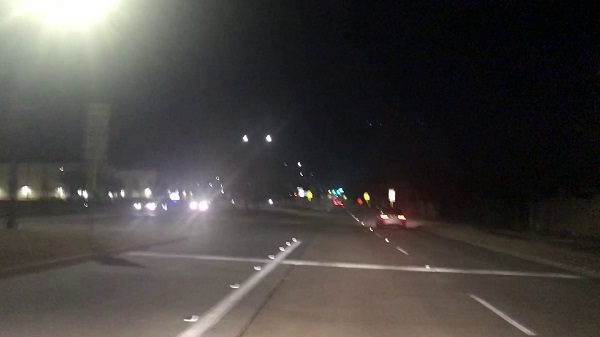car: (133, 195, 170, 218), (375, 204, 407, 227), (189, 197, 212, 211)
